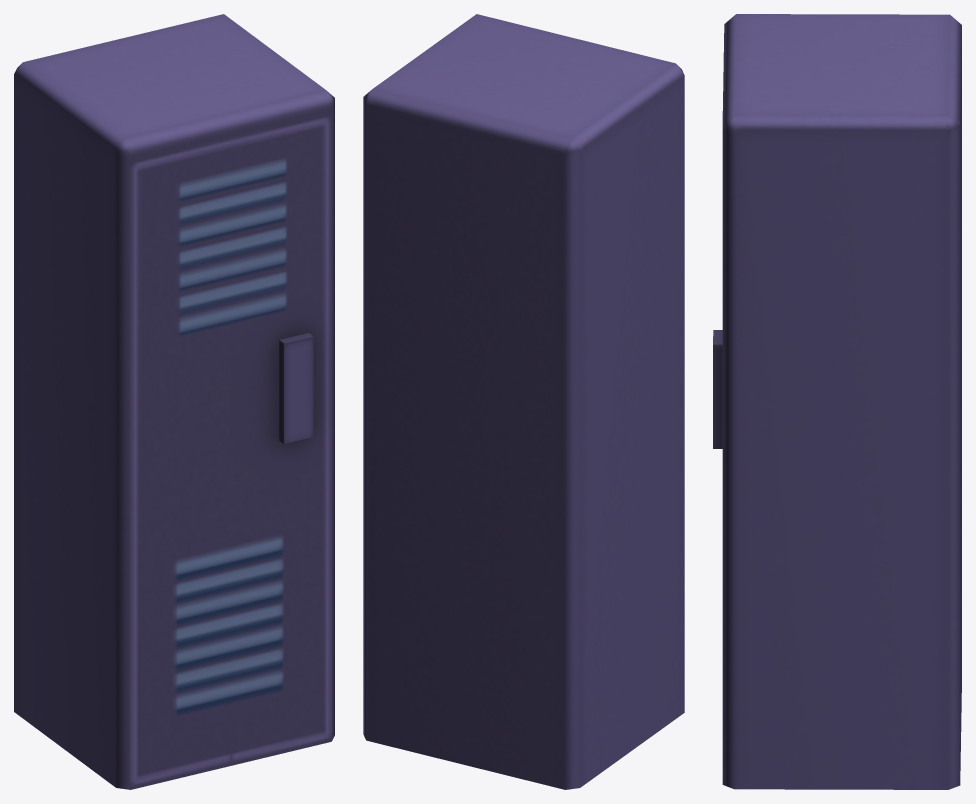
Rendered from closet.fbx.
The picture shows the model from 3 angles, left to right: view 1: azimuth 30°, elevation 25°; view 2: azimuth 150°, elevation 25°; view 3: azimuth 270°, elevation 25°; orthographic projection. The views are drawn at different scales.
Visible parts, largest first — view 1: closet; view 2: closet; view 3: closet.
Part boxes in pixels (box(x1,y1,x2,y2)): closet: box(14, 14, 334, 789); closet: box(363, 14, 684, 789); closet: box(713, 14, 961, 789).
Bounding box in the file's own units: 0.5356 × 1.51 × 0.5091.
